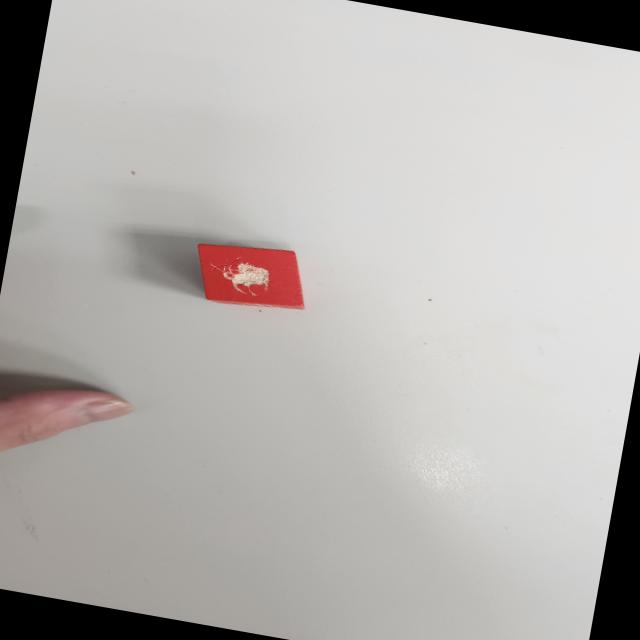broken: (186, 234, 315, 318)
